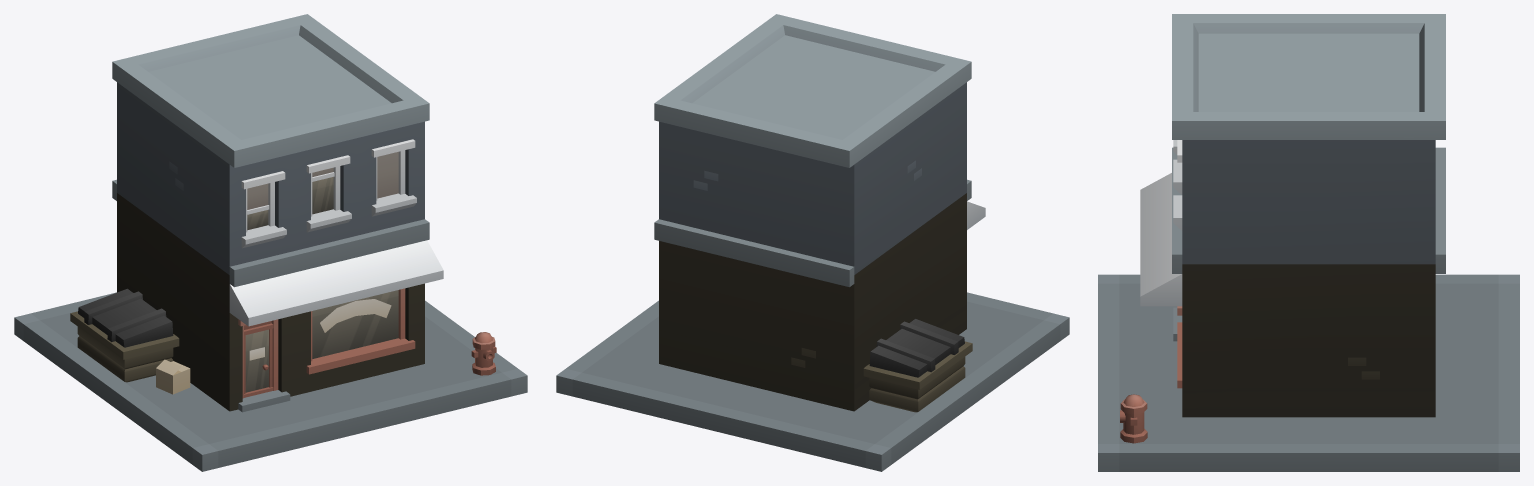
The model's file is cairo-shop.glb.
3 renders of one model, left to right at view 1: azimuth 30°, elevation 25°; view 2: azimuth 150°, elevation 25°; view 3: azimuth 270°, elevation 25°, orthographic. The views are drawn at different scales.
Parts seen in each view (by area): view 1: building_A; view 2: building_A; view 3: building_A.
Part boxes in pixels (x1=…): building_A: x1=14, y1=14, x2=527, y2=471; building_A: x1=556, y1=14, x2=1069, y2=471; building_A: x1=1098, y1=14, x2=1519, y2=471.
Bounding box in the file's own units: 2 × 1.65 × 2.
Materials: 2 (2 with a texture image).
